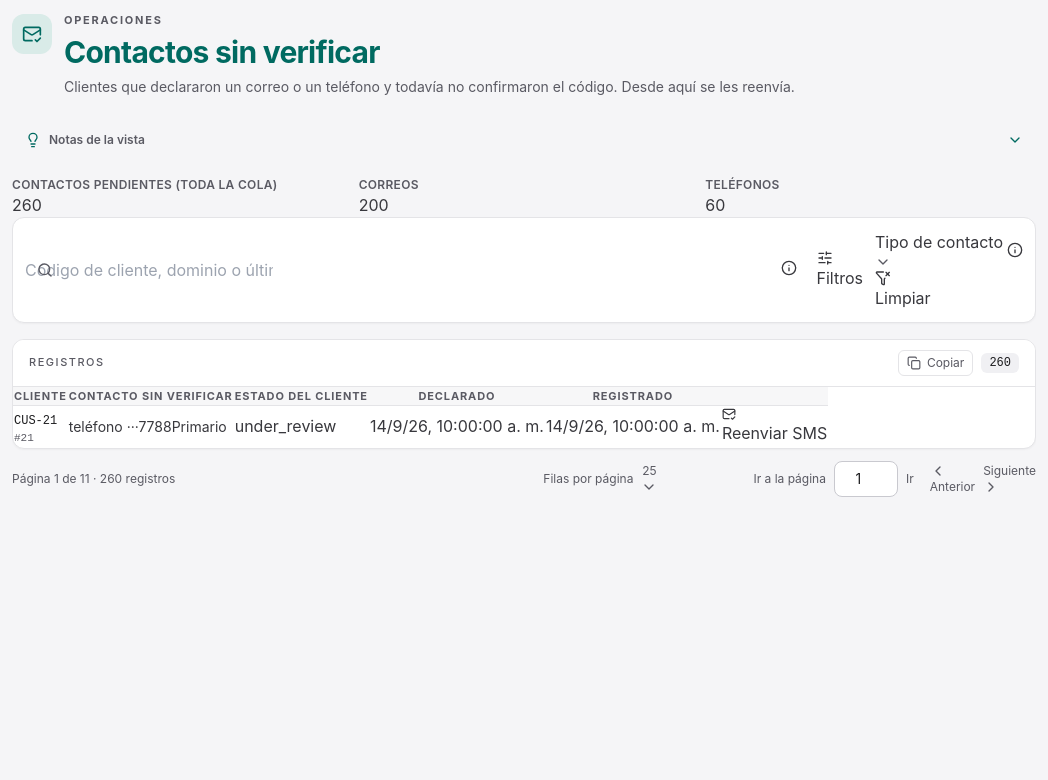
PendingContactsPage · el aviso del reenvío dice lo que pasó › con deliveryStatus=sent dice que el proveedor aceptó el envío
Click the button "Reenviar SMS": (775, 426) [722,407,827,445]
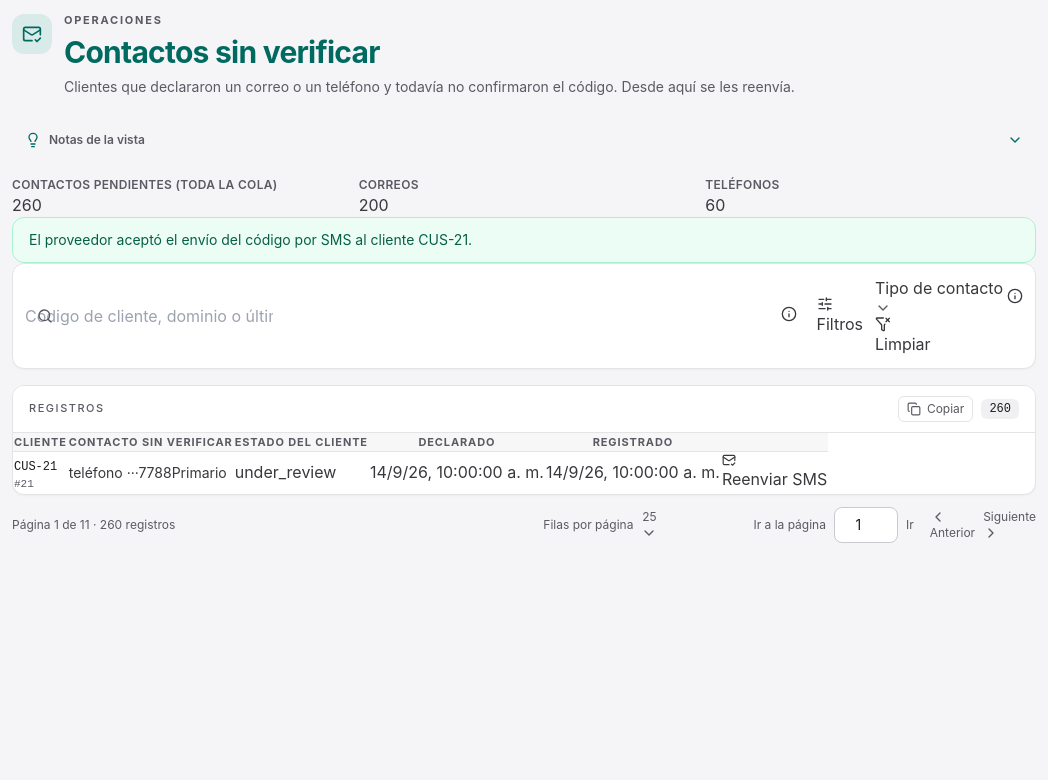
Now the message reads "El proveedor aceptó el envío del código por SMS al cliente CUS-21.", box [29,230,472,248]
